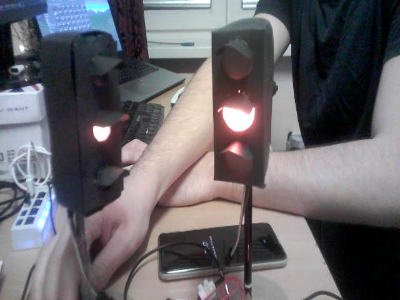trafficlight_red: (213, 32, 263, 182), (78, 37, 118, 203)
